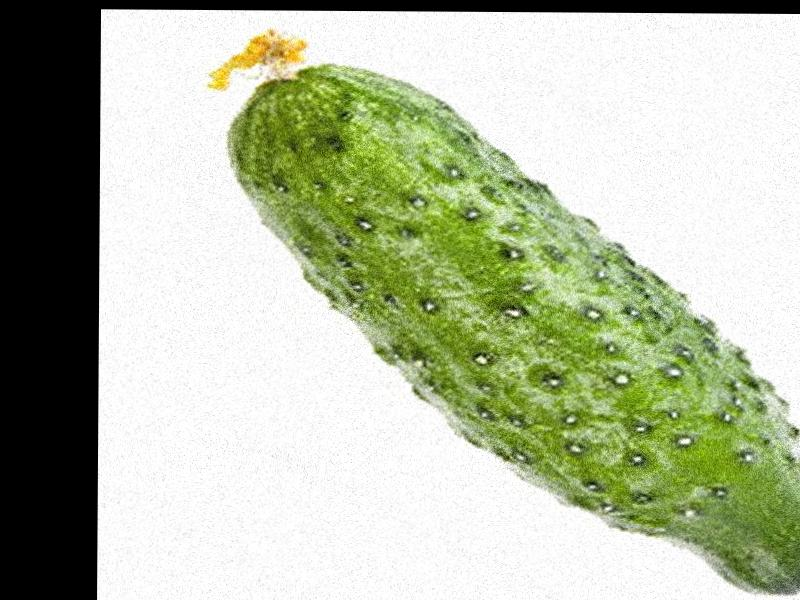Cucumber: (206, 30, 800, 592)
